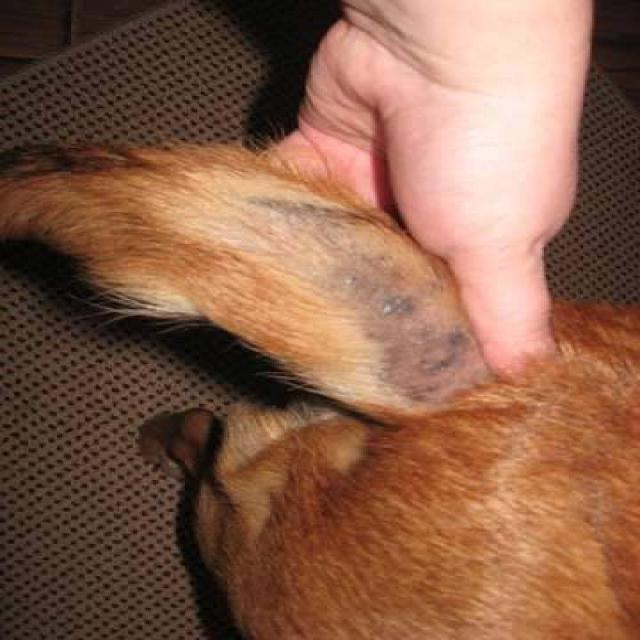allergic dermatitis: (211, 186, 487, 417)
